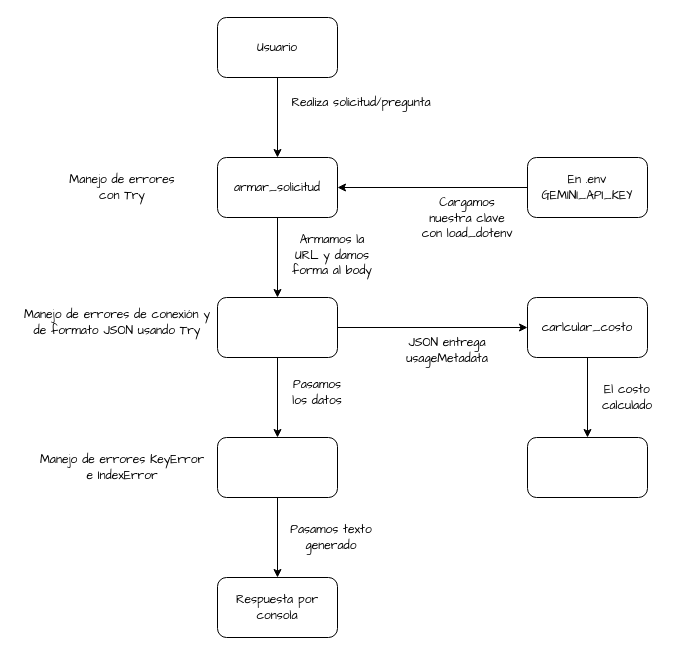
Some shapes in this 674 by 655 pixel diagram are drawn without their labels. The shapes that lost their labels are listed below. From the top down, each one's centre as x and y in pixels, then its label:
(277,327): enviar_peticion
(277,467): extraer_texto
(587,467): Mostrar costo en USD
